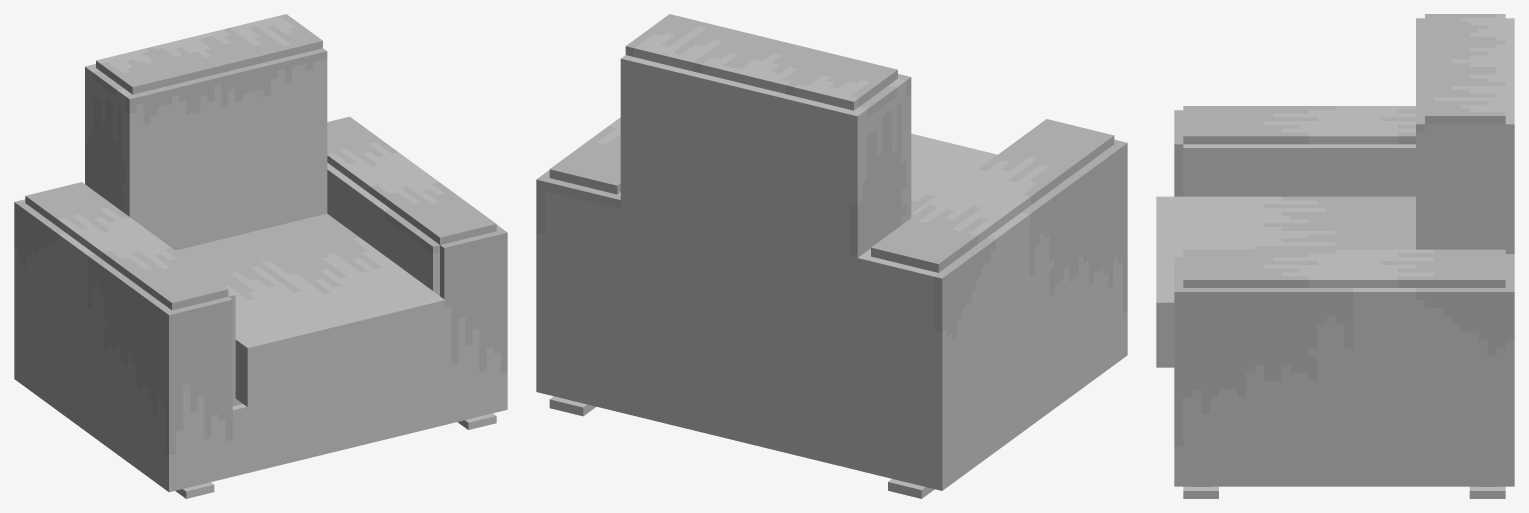
Rendered from Decor-24.obj.
3 renders of one model, left to right at view 1: azimuth 30°, elevation 25°; view 2: azimuth 150°, elevation 25°; view 3: azimuth 270°, elevation 25°, orthographic. The views are drawn at different scales.
Bounding box in the file's own units: 4.8 × 4.3 × 4.
1 material, 1 textured.
